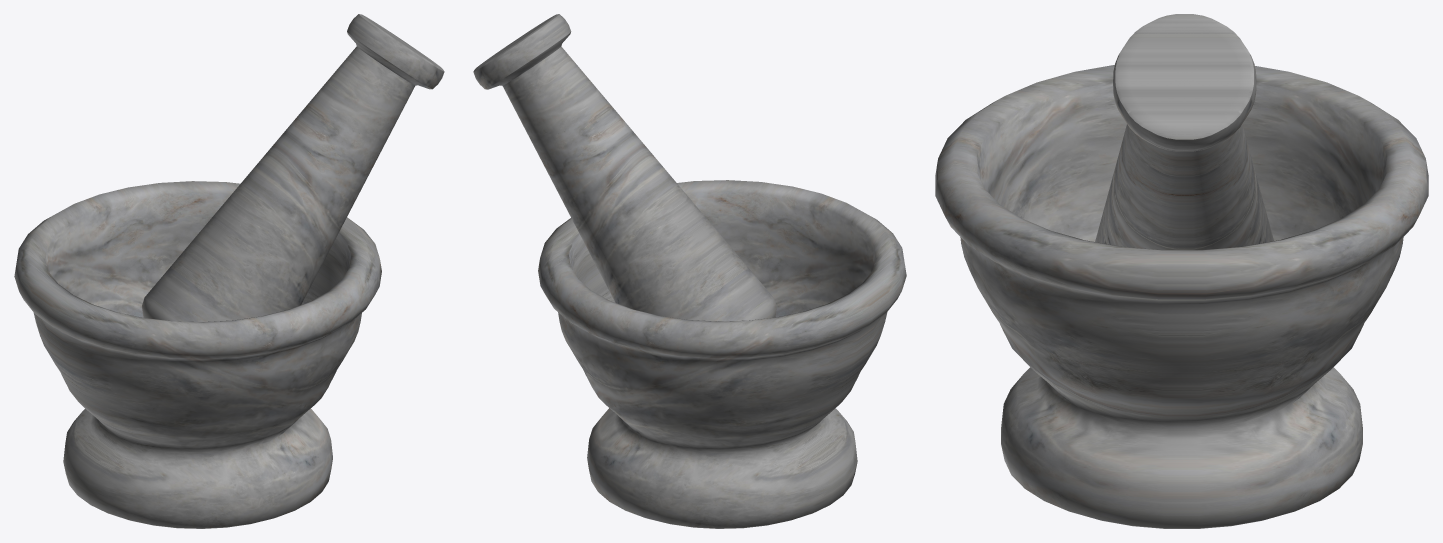
Rendered from Bowl3.fbx.
3 views of the same model, side by side, from view 1: azimuth 30°, elevation 25°; view 2: azimuth 150°, elevation 25°; view 3: azimuth 270°, elevation 25° (orthographic). The views are drawn at different scales.
Visible parts, largest first — view 1: Bowl3, Pestle3; view 2: Bowl3, Pestle3; view 3: Bowl3, Pestle3.
Part boxes in pixels (bbox=[...]): Bowl3: bbox=[14, 181, 381, 528]; Pestle3: bbox=[142, 14, 444, 321]; Bowl3: bbox=[538, 180, 906, 528]; Pestle3: bbox=[473, 14, 776, 321]; Bowl3: bbox=[935, 65, 1428, 528]; Pestle3: bbox=[1095, 14, 1273, 250].
Size of the model in its own units: 456 by 453 by 364.
